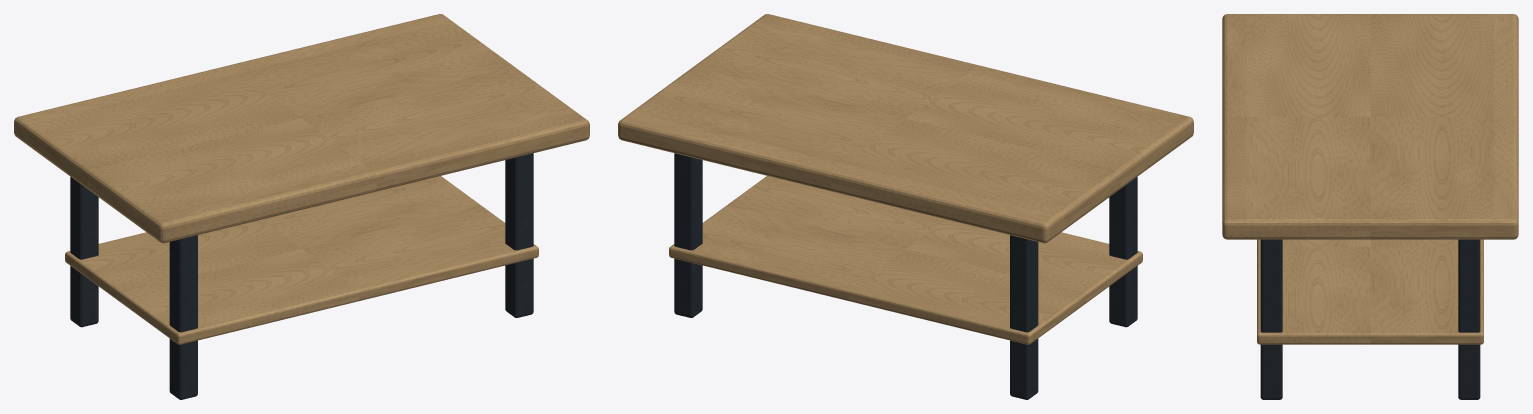
Rendered from milo_coffee_table_innerscene.glb.
The picture shows the model from 3 angles, left to right: view 1: azimuth 30°, elevation 25°; view 2: azimuth 150°, elevation 25°; view 3: azimuth 270°, elevation 25°; orthographic projection.
Visible parts, largest first — view 1: Waiting table top, Coffee table shelf, Table steel leg, Table steel leg.002, Table steel leg.001; view 2: Waiting table top, Coffee table shelf, Table steel leg.001, Table steel leg.003, Table steel leg; view 3: Waiting table top, Coffee table shelf, Table steel leg.002, Table steel leg.003.
Part boxes in pixels (<box>): Waiting table top: <box>14,14,589,243</box>; Coffee table shelf: <box>65,176,538,344</box>; Table steel leg: <box>169,235,197,399</box>; Table steel leg.002: <box>505,153,533,317</box>; Table steel leg.001: <box>70,177,98,327</box>; Waiting table top: <box>618,14,1193,243</box>; Coffee table shelf: <box>669,176,1142,344</box>; Table steel leg.001: <box>1010,235,1038,399</box>; Table steel leg.003: <box>674,153,702,317</box>; Table steel leg: <box>1109,177,1137,327</box>; Waiting table top: <box>1222,14,1518,239</box>; Coffee table shelf: <box>1257,239,1483,344</box>; Table steel leg.002: <box>1260,239,1282,399</box>; Table steel leg.003: <box>1458,239,1480,399</box>.
Size of the model in its own units: 1 by 0.4425 by 0.6.
Materials: 2 (2 with a texture image).
